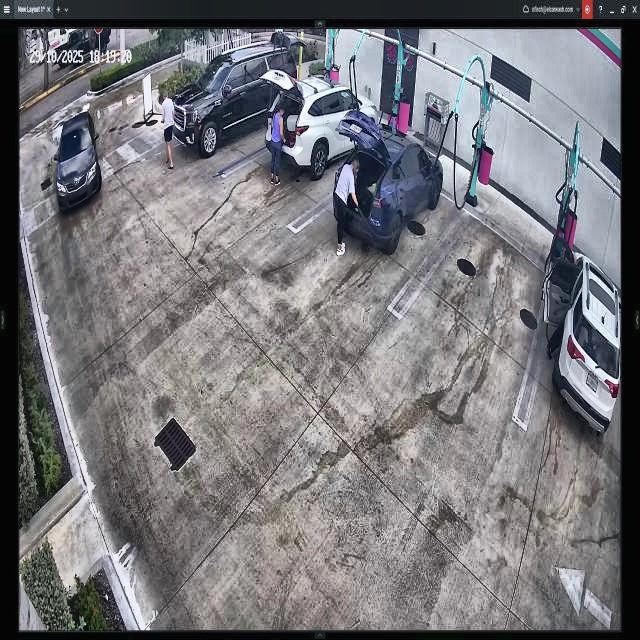Car: (335, 116, 444, 255), (262, 70, 378, 174)
